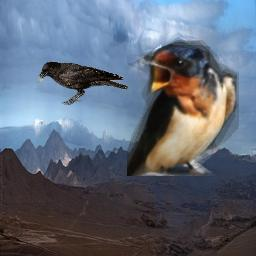Crow: (37, 61, 128, 105)
Swallow: (127, 40, 239, 176)
